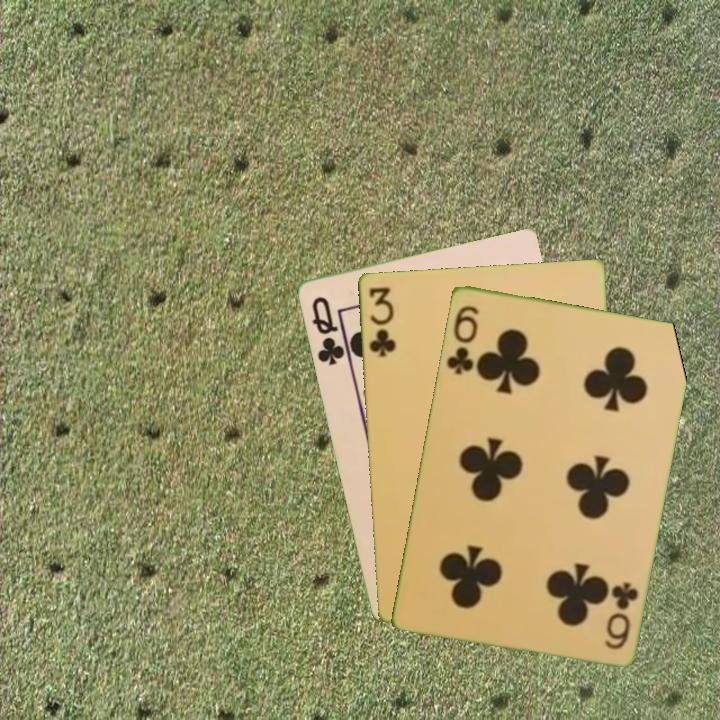3c: (365, 283, 398, 360)
6c: (442, 301, 481, 378), (601, 577, 641, 652)
Qc: (307, 292, 351, 368)
